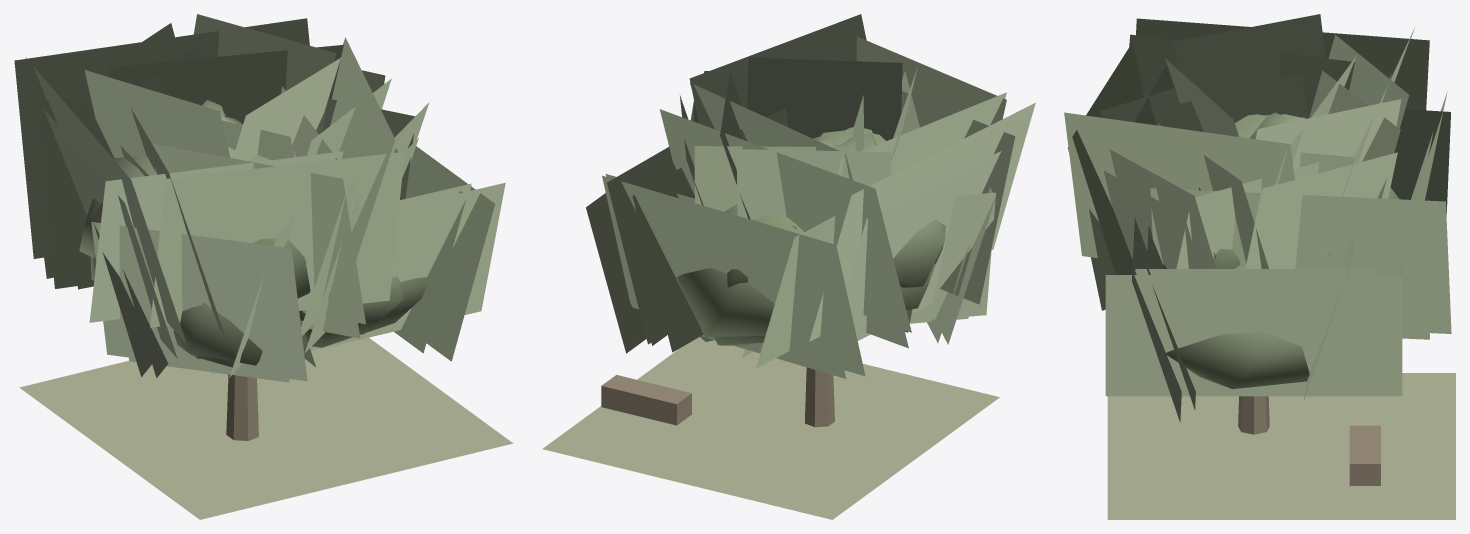
The picture shows the model from 3 angles, left to right: view 1: azimuth 30°, elevation 25°; view 2: azimuth 150°, elevation 25°; view 3: azimuth 270°, elevation 25°; orthographic projection. The views are drawn at different scales.
Parts seen in each view (by area): view 1: Near, Mid, Far; view 2: Near, Mid, Far; view 3: Near, Mid.
Boxes of the visible parts, x1,y1,x2,y2 form: Near: [19, 14, 513, 519]; Mid: [14, 18, 505, 381]; Far: [203, 276, 405, 334]; Near: [542, 14, 1015, 519]; Mid: [586, 71, 1035, 376]; Far: [724, 204, 803, 287]; Near: [1064, 14, 1455, 519]; Mid: [1068, 18, 1451, 422].
Size of the model in its own units: 1.19 by 1.13 by 1.13.
